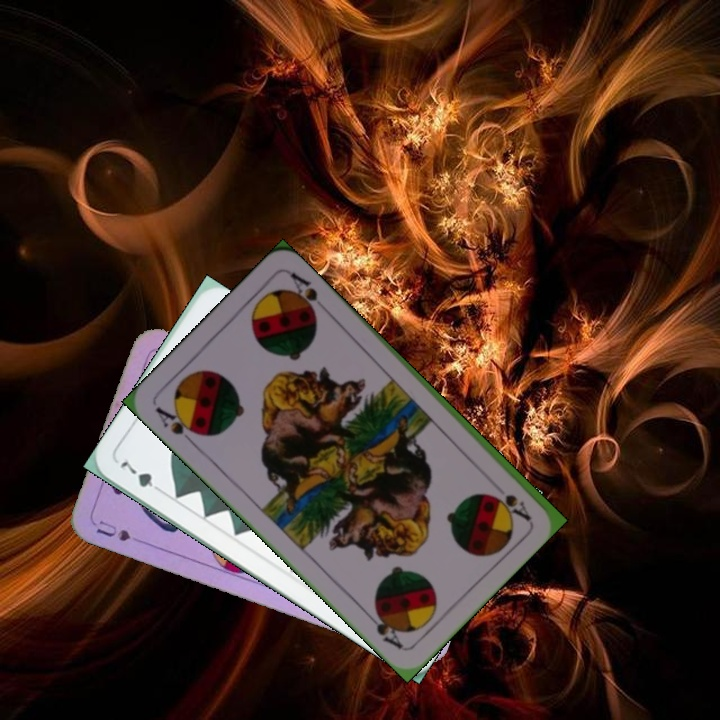G7: (116, 457, 167, 495)
SA: (151, 402, 205, 448), (500, 490, 533, 523)
SU: (92, 516, 133, 544)
